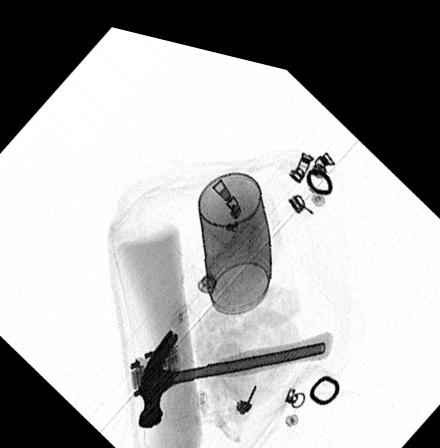Hammer: (136, 313, 332, 421)
